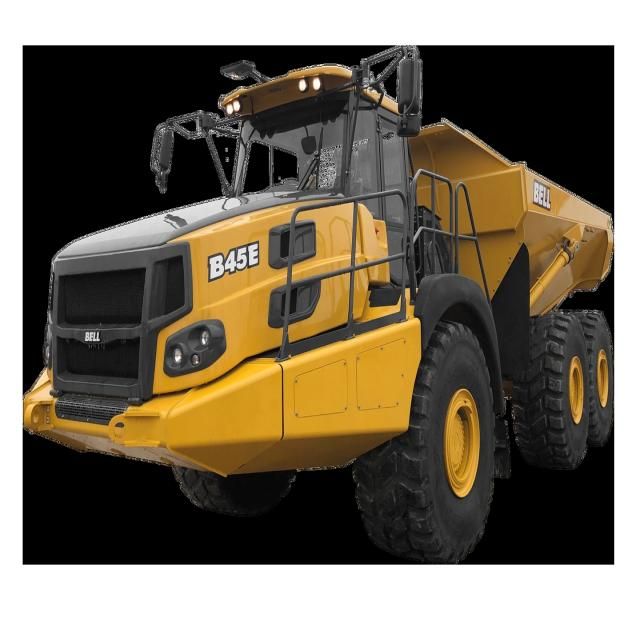dump_truck: (13, 51, 638, 578)
